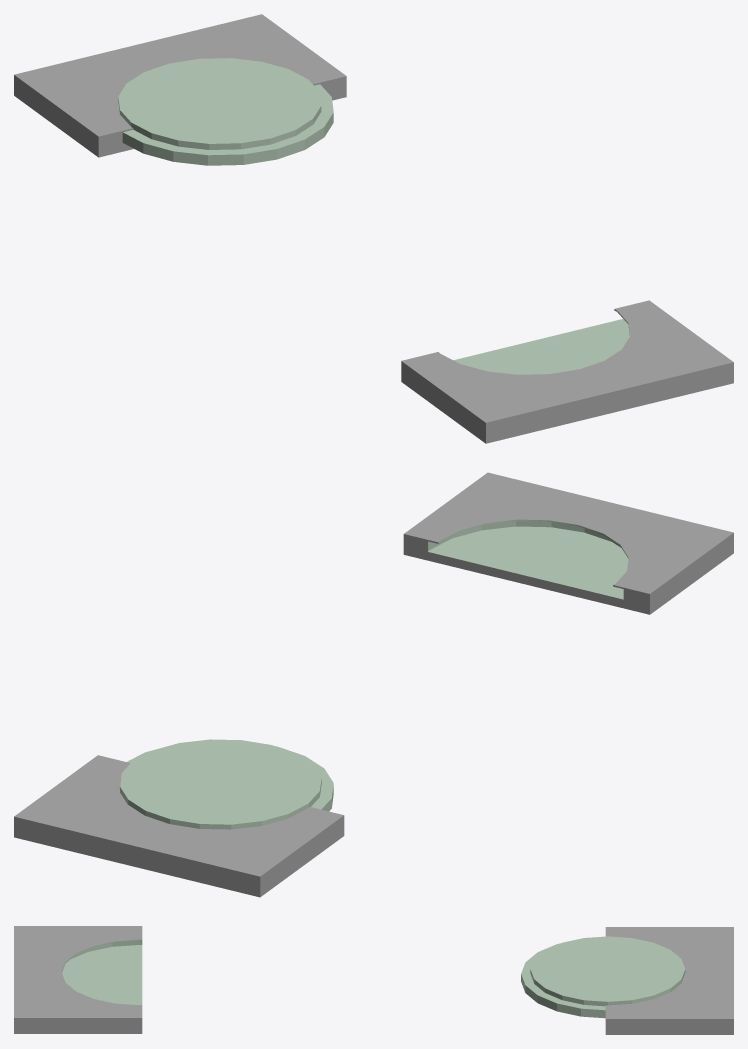
The model's file is Platform_Plate_dock1_moving.fbx.
The picture shows the model from 3 angles, top to bottom: view 1: azimuth 30°, elevation 25°; view 2: azimuth 150°, elevation 25°; view 3: azimuth 270°, elevation 25°; orthographic projection. The views are drawn at different scales.
Visible parts, largest first — view 1: pCube2, pCone1, pCube3; view 2: pCube2, pCube3, pCone1; view 3: pCube2, pCone1, pCube3.
Part boxes in pixels (<box>): pCube2: <box>401,300,733,443</box>; pCone1: <box>118,58,333,165</box>; pCube3: <box>14,14,346,157</box>; pCube2: <box>403,472,733,614</box>; pCube3: <box>14,755,344,897</box>; pCone1: <box>119,739,333,829</box>; pCube2: <box>14,926,142,1033</box>; pCone1: <box>521,936,685,1018</box>; pCube3: <box>605,927,733,1034</box>.
Size of the model in its own units: 11.48 by 1.12 by 37.61.
